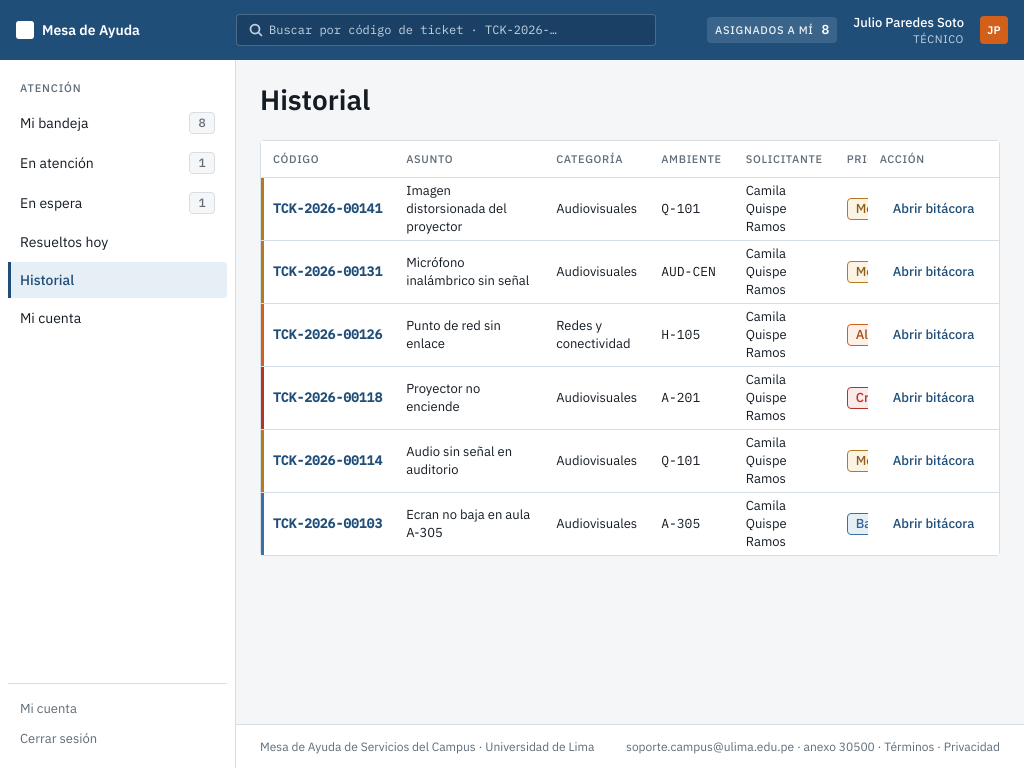
Scenario: AppLayout · buscador de la cabecera › al tecnico lo lleva a su lista de tickets (/tecnico/historial → Mi bandeja)
Expected: the text "Asignados a mí" is shown, [715,22,814,38]
Type "TCK-2026-00144" into the field named "Buscar ticket por código".
click(446, 30); type("TCK-2026-00144")  # box [236,14,656,46]
Then press Enter
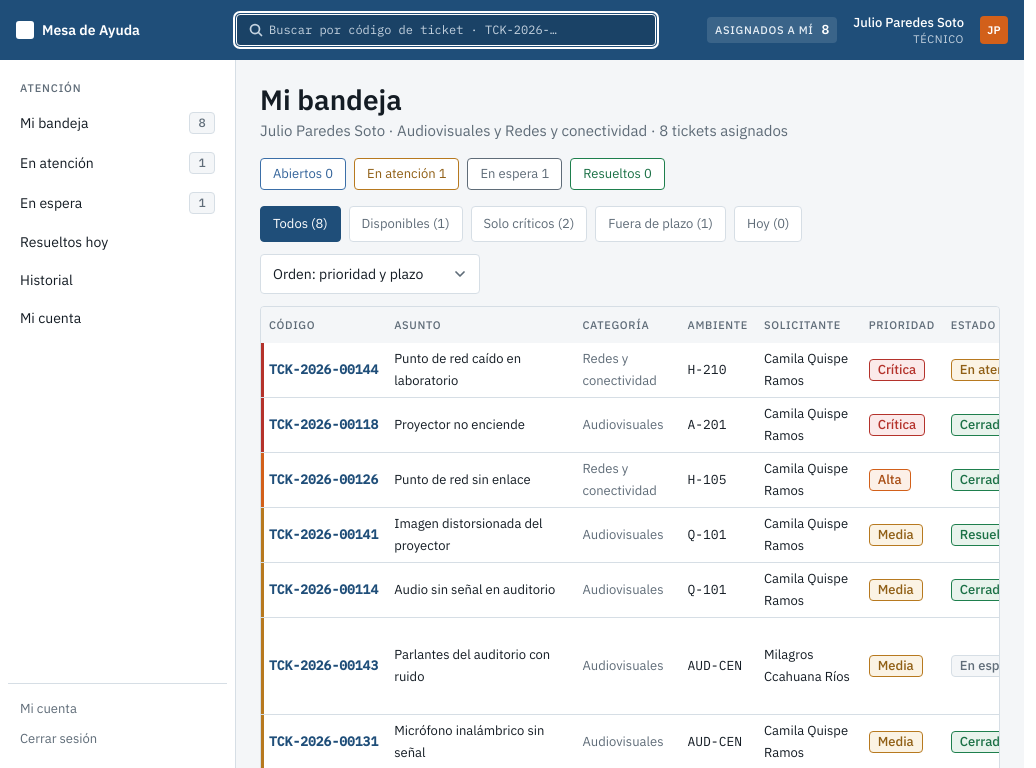
Result: the heading "Mi bandeja" is shown at [260,81,402,118]
Result: the link "TCK-2026-00144" is shown at [269,361,378,378]
